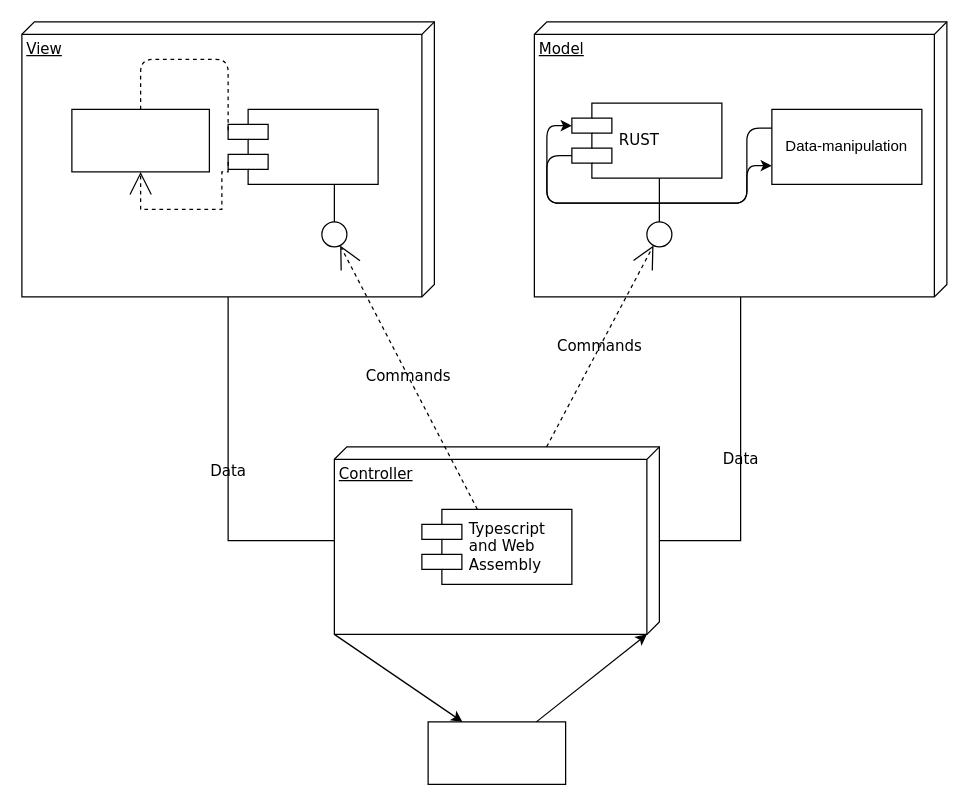
This 969x806 diagram has some shape labels left out. The centre of each missing label's shape, as x and y in pixels:
Database: pixel 496 752
Html forms: pixel 140 140
Javascript: pixel 302 146
